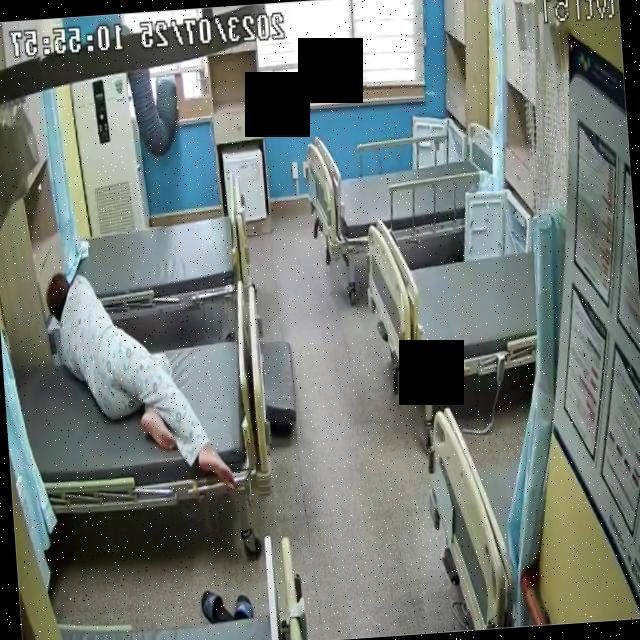bed: (10, 332, 256, 522), (359, 208, 543, 397), (306, 121, 499, 255), (62, 189, 250, 322)
danger: (45, 256, 236, 508)
patient: (45, 258, 236, 507)
